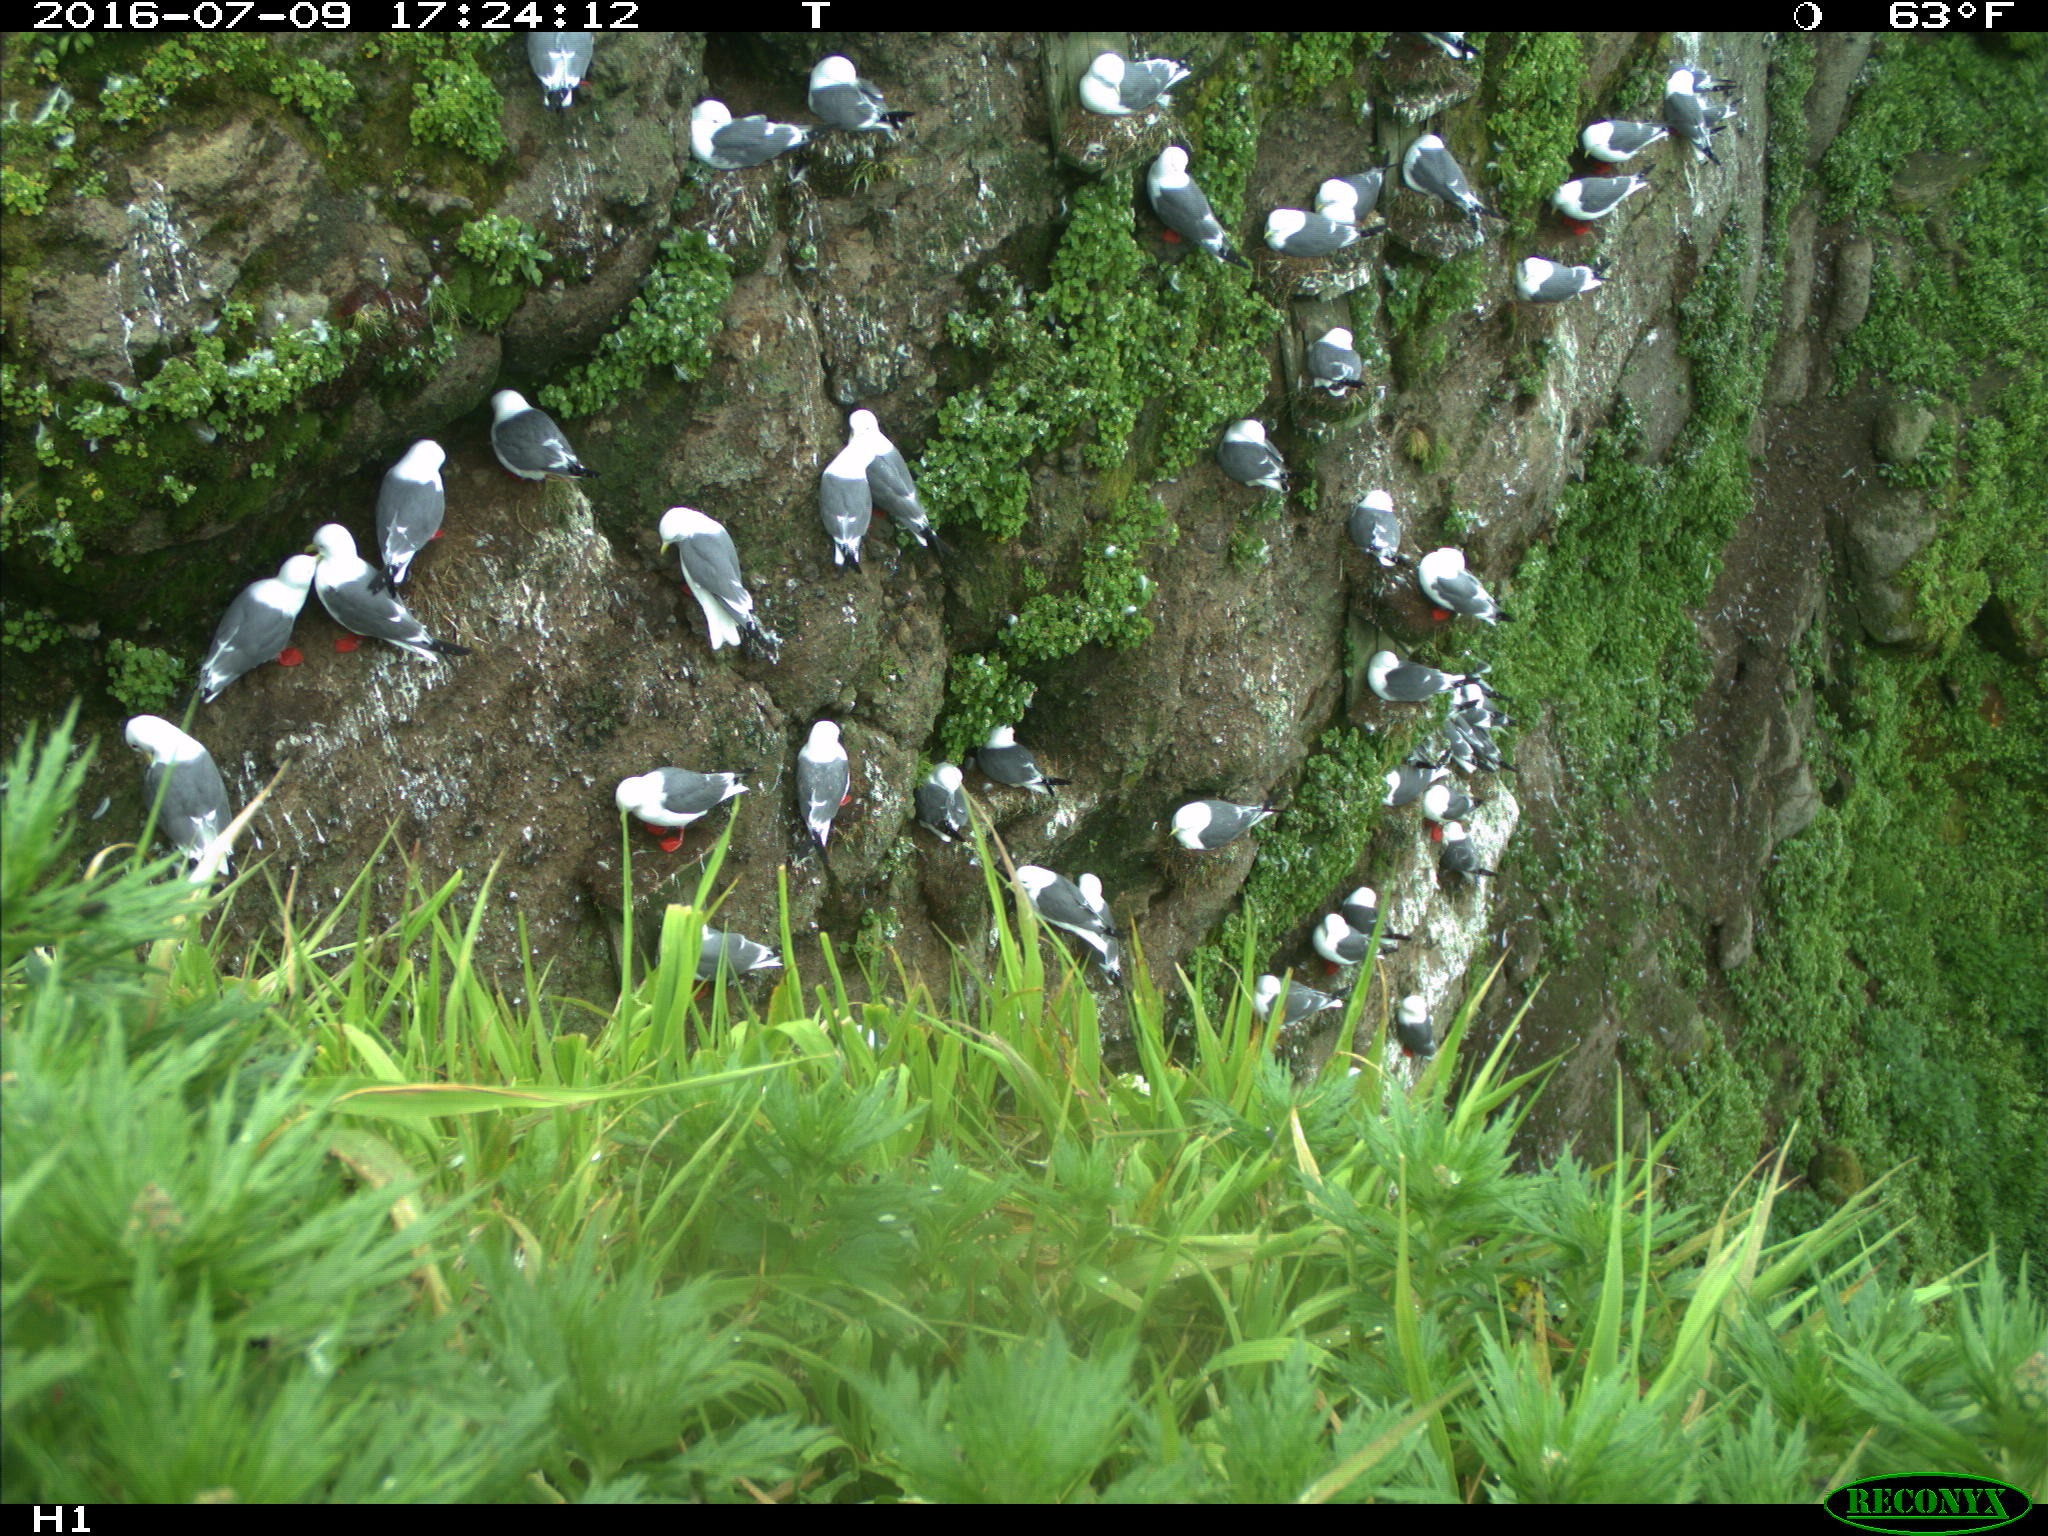Kittiwake: (127, 662, 289, 886), (295, 516, 490, 697), (648, 466, 814, 636), (177, 536, 329, 697), (363, 437, 522, 570), (479, 365, 639, 495), (839, 389, 955, 557), (782, 708, 940, 824), (1292, 895, 1405, 1042), (676, 86, 826, 189), (655, 892, 798, 999), (1055, 48, 1224, 137), (1655, 48, 1763, 177), (782, 47, 901, 158), (1137, 144, 1232, 282), (1150, 779, 1287, 874), (1279, 321, 1405, 424), (1388, 768, 1509, 870), (1203, 386, 1305, 505), (1053, 865, 1132, 1018), (1317, 870, 1437, 970), (1380, 115, 1505, 208), (1276, 160, 1356, 303), (810, 432, 884, 587), (506, 18, 613, 119), (1409, 524, 1485, 662), (600, 745, 681, 870), (1496, 244, 1630, 315), (1555, 98, 1638, 208), (1247, 949, 1324, 1066), (913, 742, 989, 857), (1313, 478, 1417, 557), (1363, 634, 1467, 713), (1308, 153, 1393, 245), (1535, 165, 1614, 261), (984, 705, 1053, 807), (1013, 854, 1063, 970)
